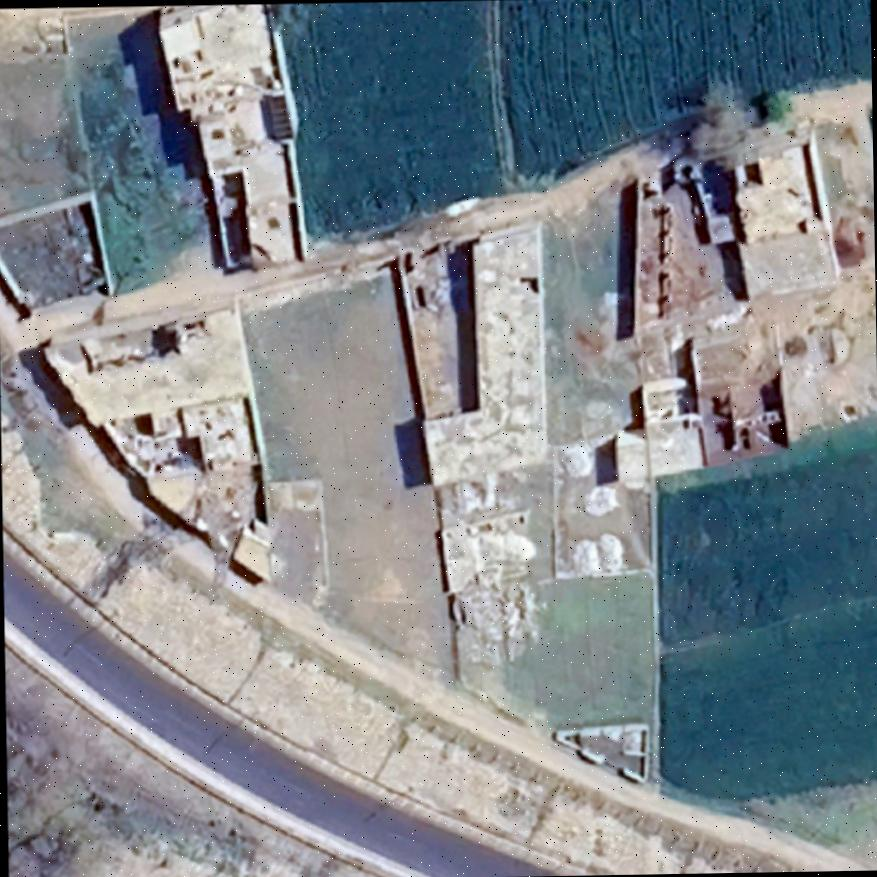Solarpanel: (259, 90, 297, 147)
